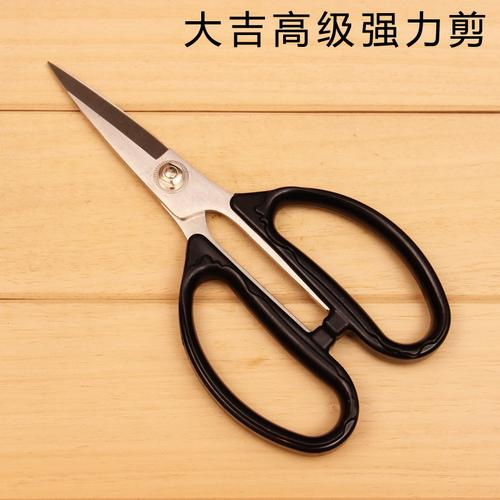scissor: (46, 60, 452, 453)
